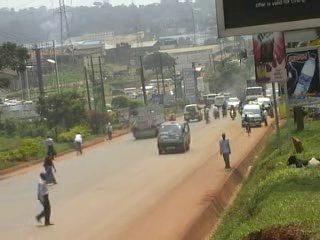Car: (181, 102, 205, 123), (226, 96, 240, 110)
Motorcycle: (210, 102, 222, 120), (166, 110, 180, 123), (227, 103, 237, 120), (235, 99, 244, 115)
